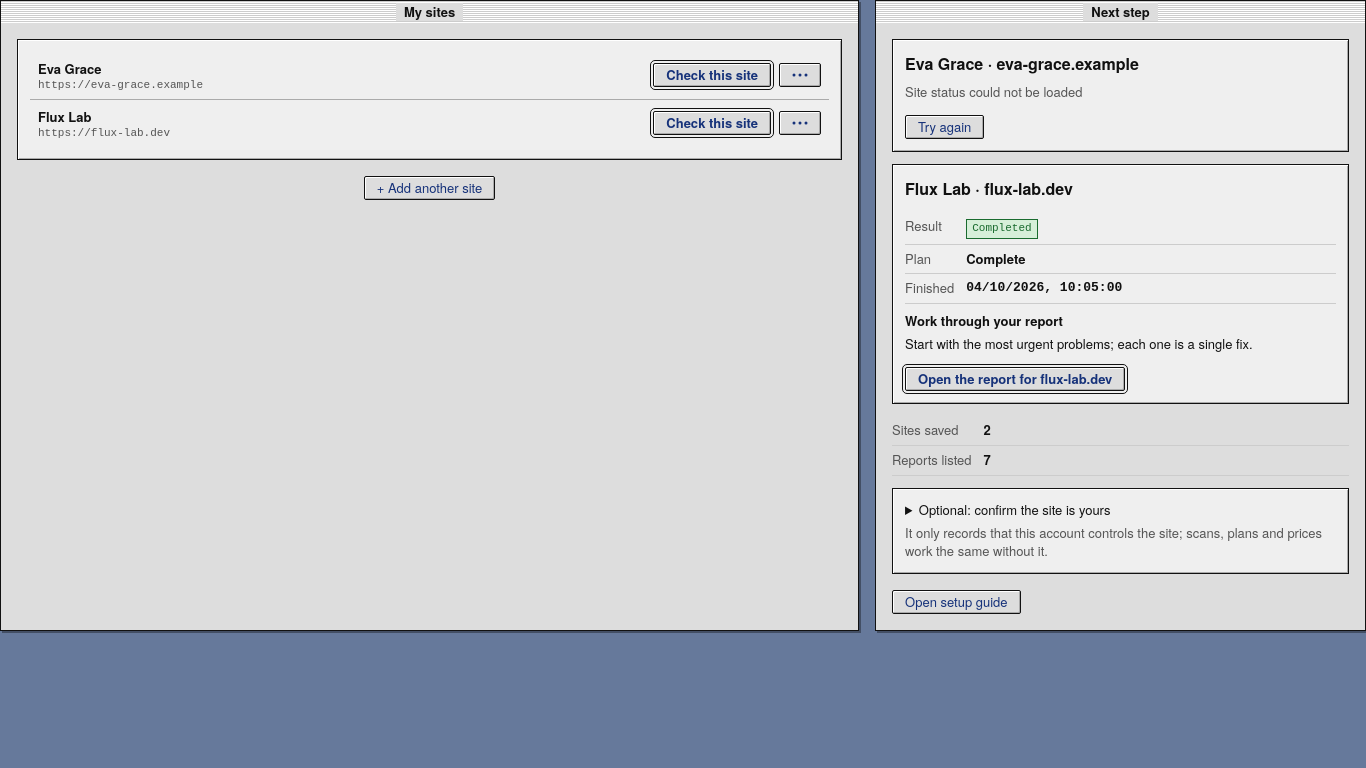
Test: reading each site › says one site could not be read, and retries only that site
This screenshot has width=1366, height=768.
expect the message reads "Site status could not be loaded": met, box [905,82,1082,101]
expect the button "Open the report for flux-lab.dev" is shown: met, box [905,367,1125,391]
Click the button "Try again": (945, 127) [905,115,984,139]
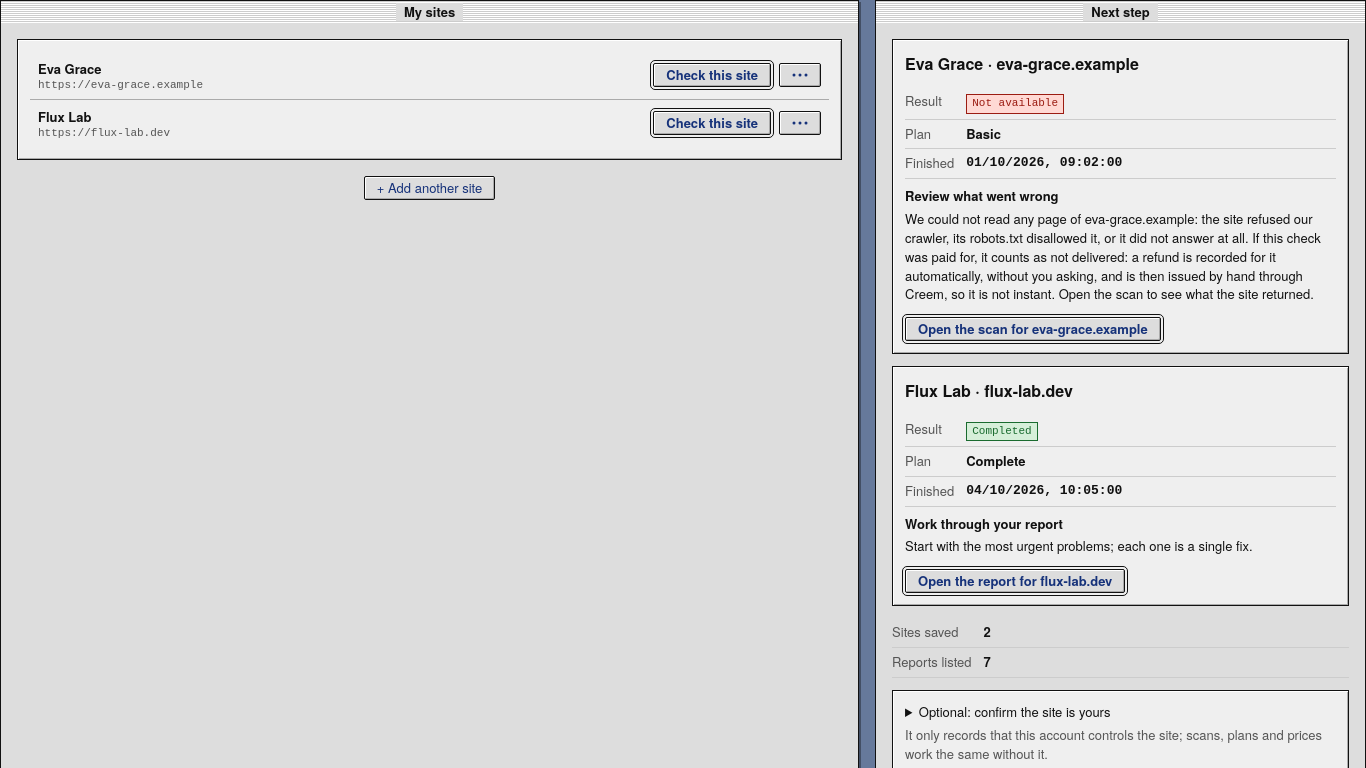
expect the button "Open the report for flux-lab.dev" is shown: met, box [905,569,1125,593]
expect the text "Review what went wrong" is shown: met, box [905,186,1059,205]
